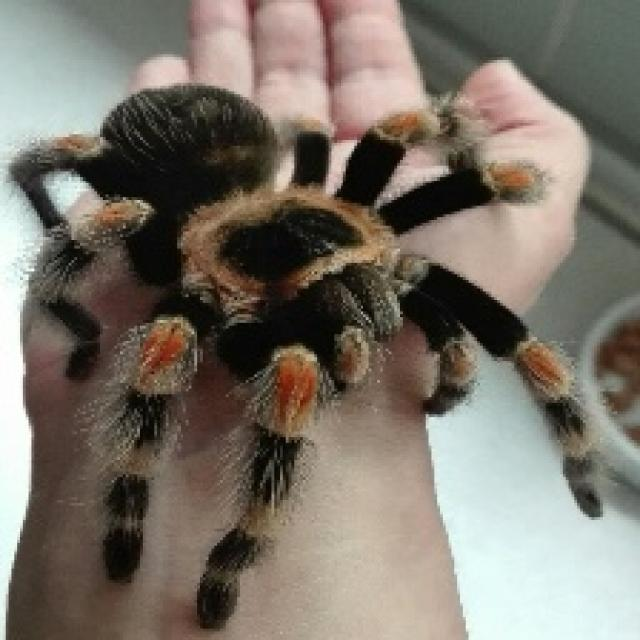Non venomous spider: (0, 84, 640, 579)
